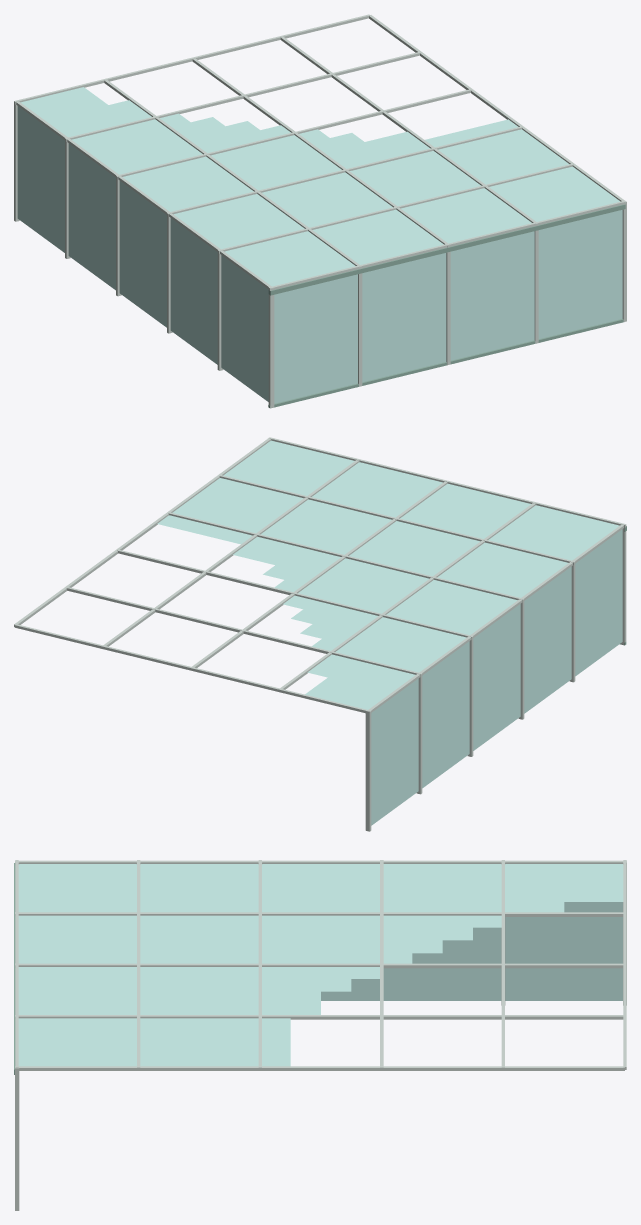
Rendered from s7-master-g00l-glass-service-wing.glb.
3 views of the same model, one above another, from view 1: azimuth 30°, elevation 25°; view 2: azimuth 150°, elevation 25°; view 3: azimuth 270°, elevation 25° (orthographic). The views are drawn at different scales.
Parts seen in each view (by area): view 1: G00L.open-glass-service-annex; view 2: G00L.open-glass-service-annex; view 3: G00L.open-glass-service-annex.
Boxes of the visible parts, x1=… form: G00L.open-glass-service-annex: x1=14, y1=14, x2=626, y2=408; G00L.open-glass-service-annex: x1=14, y1=437, x2=626, y2=831; G00L.open-glass-service-annex: x1=14, y1=860, x2=626, y2=1210.
Bounding box in the file's own units: 16.18 × 5.2 × 20.17.
